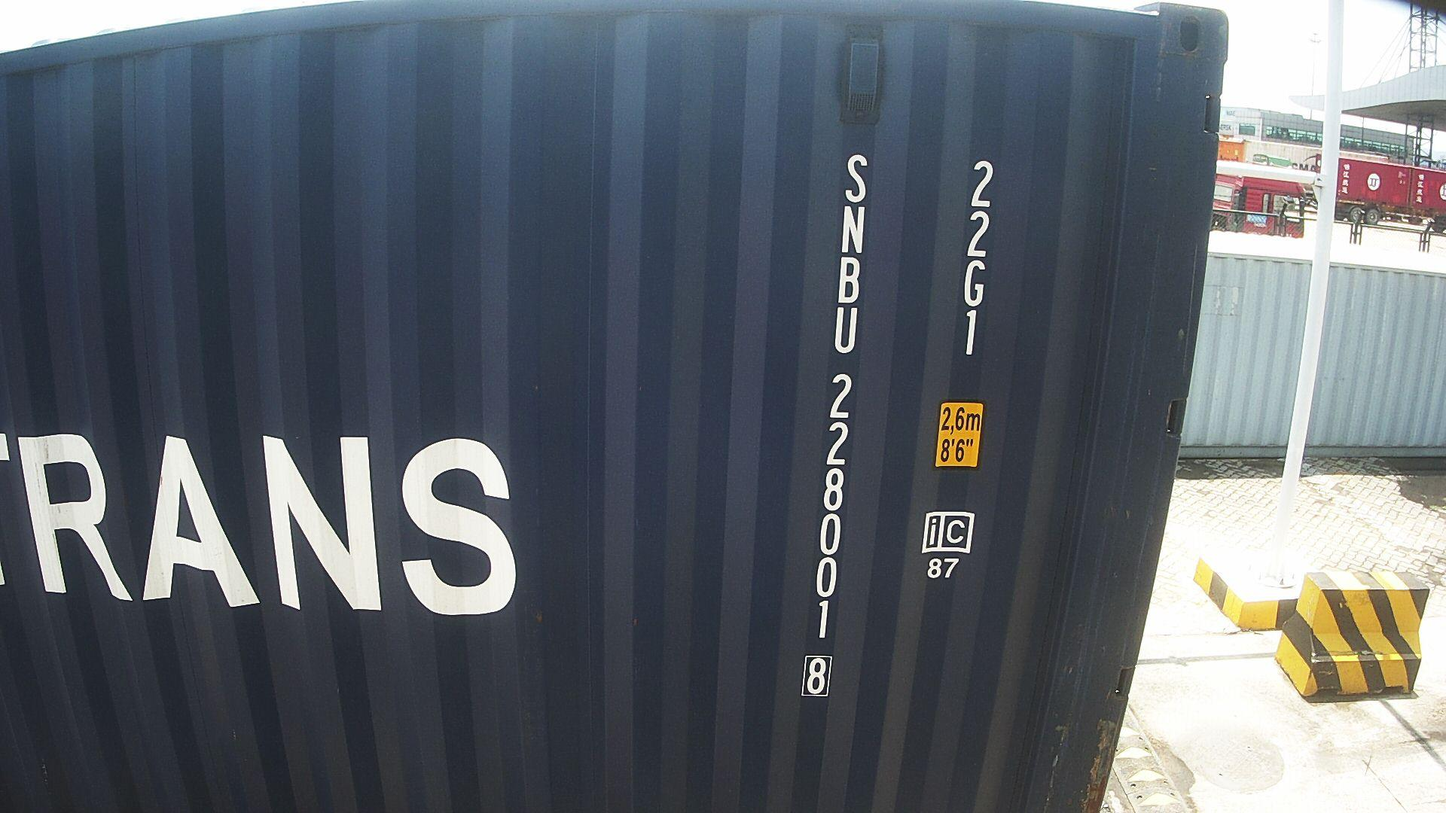container-numbers: (796, 150, 874, 701), (953, 158, 999, 364)
